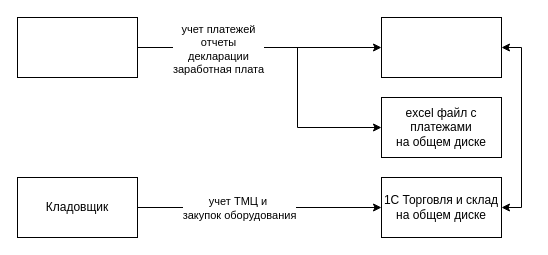
The diagram is 548 pixels wide and 255 high, and some of its shapes have lost their labels. Here are the shapes that lost their labels. From the top down, the centre of each, then its label:
[77,47]: Бухгалтер
[441,47]: 1С Бухгалтерия с платежами на общем диске
